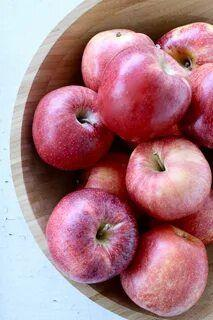Apple: (98, 46, 191, 140), (46, 192, 137, 282), (120, 226, 208, 318), (126, 139, 211, 218), (34, 86, 112, 168)
